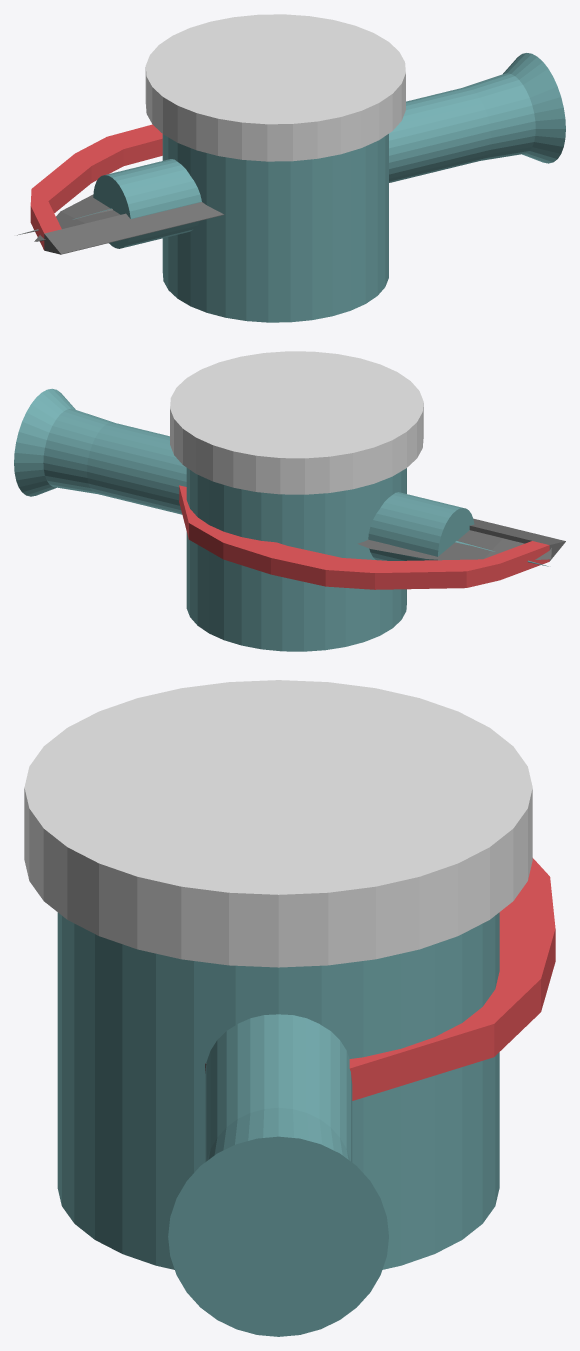
File: Tools.fbx
The picture shows the model from 3 angles, top to bottom: view 1: azimuth 30°, elevation 25°; view 2: azimuth 150°, elevation 25°; view 3: azimuth 270°, elevation 25°; orthographic projection. The views are drawn at different scales.
Visible parts, largest first — view 1: Salbe, Spritze, Saw, Knife; view 2: Salbe, Spritze, Saw, Knife; view 3: Salbe, Spritze, Saw.
Boxes of the visible parts, x1=… form: Salbe: x1=145, y1=14, x2=405, y2=322; Spritze: x1=17, y1=53, x2=565, y2=248; Saw: x1=30, y1=124, x2=224, y2=254; Knife: x1=34, y1=194, x2=120, y2=241; Salbe: x1=170, y1=351, x2=423, y2=651; Spritze: x1=14, y1=388, x2=548, y2=566; Saw: x1=179, y1=485, x2=565, y2=589; Knife: x1=357, y1=530, x2=551, y2=559; Salbe: x1=24, y1=680, x2=532, y2=1269; Spritze: x1=168, y1=1014, x2=388, y2=1336; Saw: x1=205, y1=858, x2=555, y2=1100.
Bounding box in the file's own units: 160 × 60 × 72.09.
